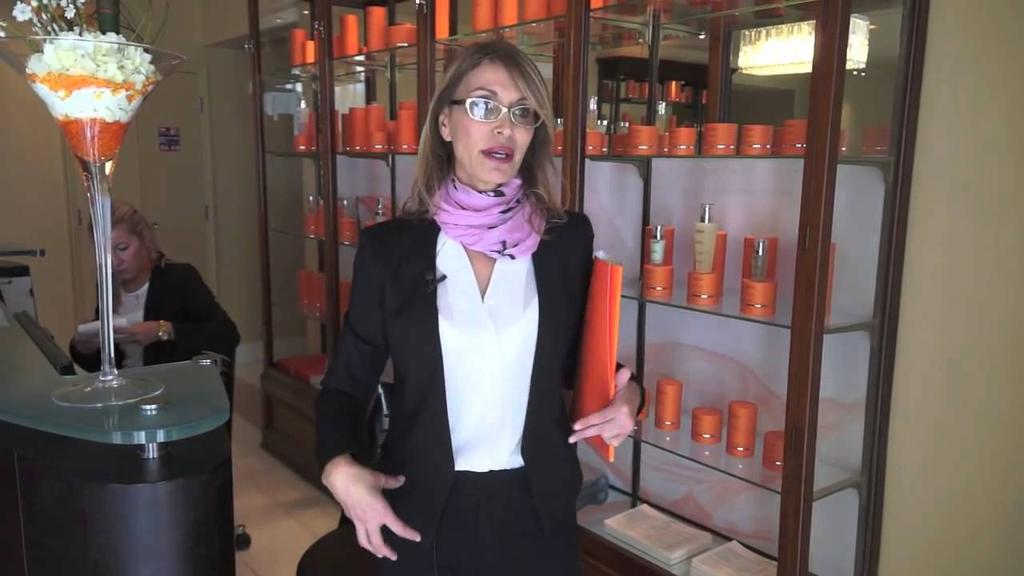face: (451, 60, 536, 183), (96, 227, 141, 280)
